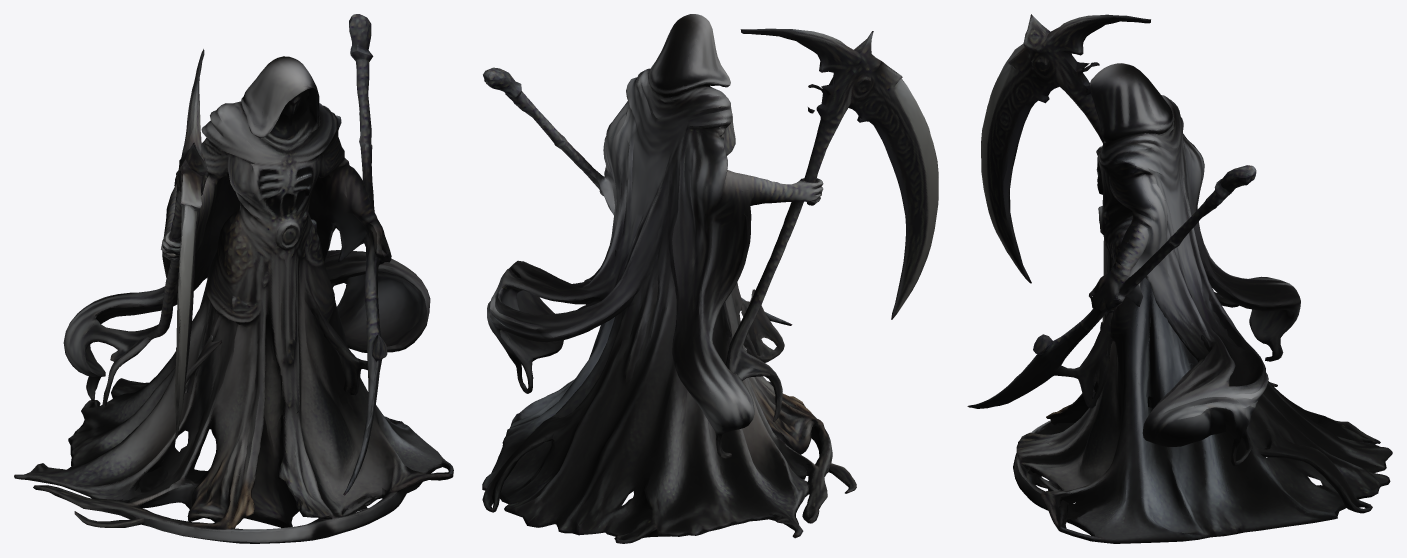
The model's file is Shadowy Figure.glb.
The picture shows the model from 3 angles, left to right: view 1: azimuth 30°, elevation 25°; view 2: azimuth 150°, elevation 25°; view 3: azimuth 270°, elevation 25°; orthographic projection. The views are drawn at different scales.
Visible parts, largest first — view 1: Object_4; view 2: Object_4; view 3: Object_4.
Part boxes in pixels (x1=…): Object_4: x1=14, y1=14, x2=453, y2=543; Object_4: x1=482, y1=14, x2=938, y2=543; Object_4: x1=967, y1=14, x2=1392, y2=543.
Size of the model in its own units: 0.8311 by 1 by 0.9085.
1 material, 1 textured.
